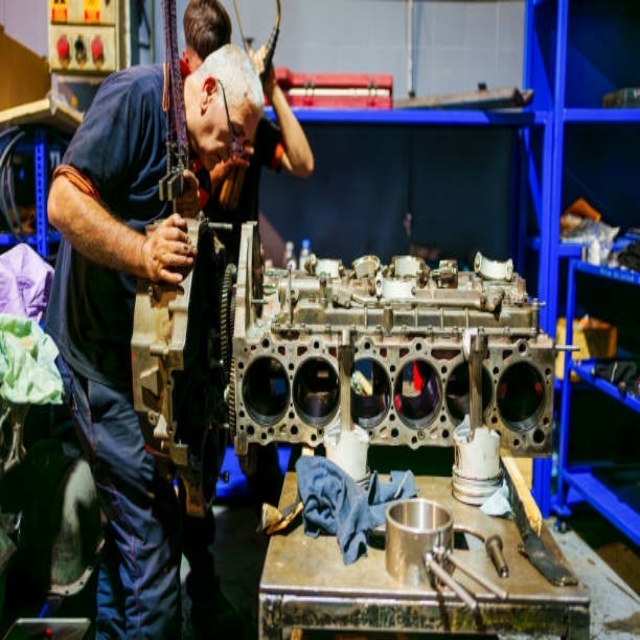Gafas: (215, 78, 248, 162)
Sin_guantes: (139, 215, 198, 290)
Sin_mascara: (206, 147, 232, 174)
